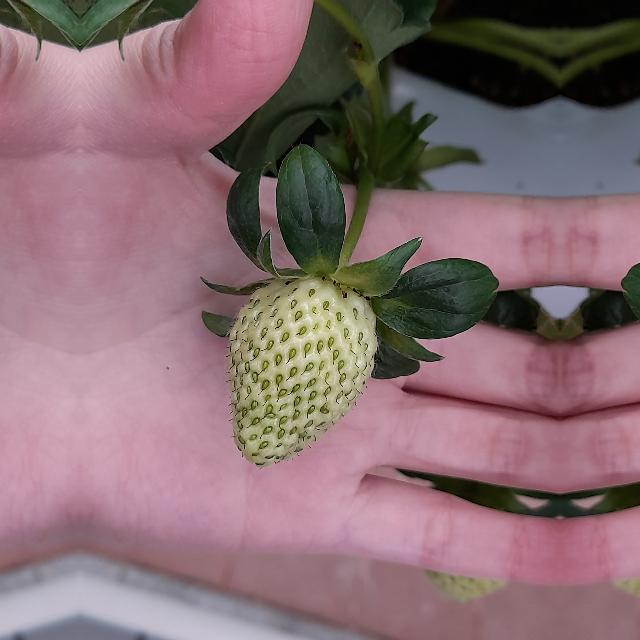Health_25: (229, 277, 377, 467)
